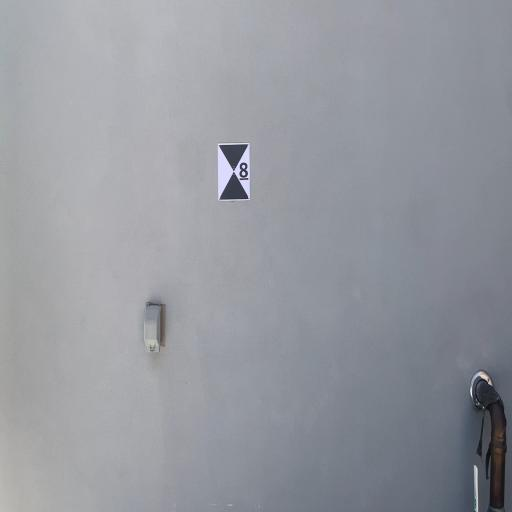target8: (218, 143, 251, 201)
